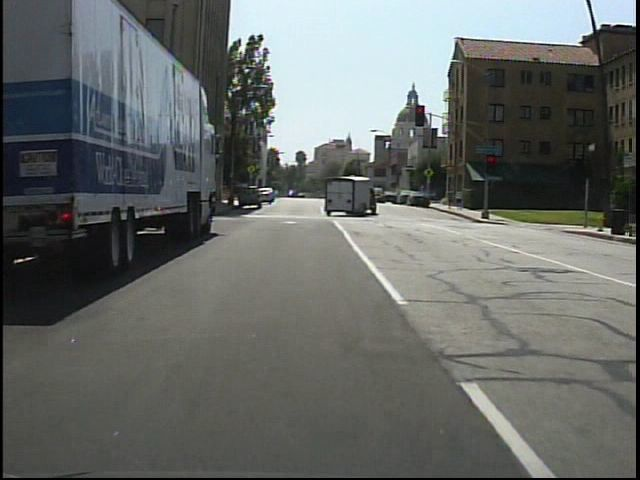person: (445, 184, 457, 210), (455, 185, 467, 210)
